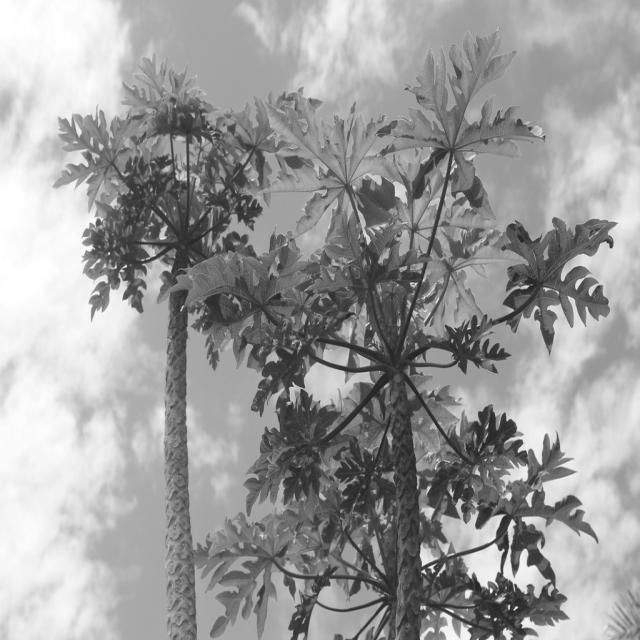Papaya-Tree: (251, 42, 624, 640), (51, 51, 233, 640)
